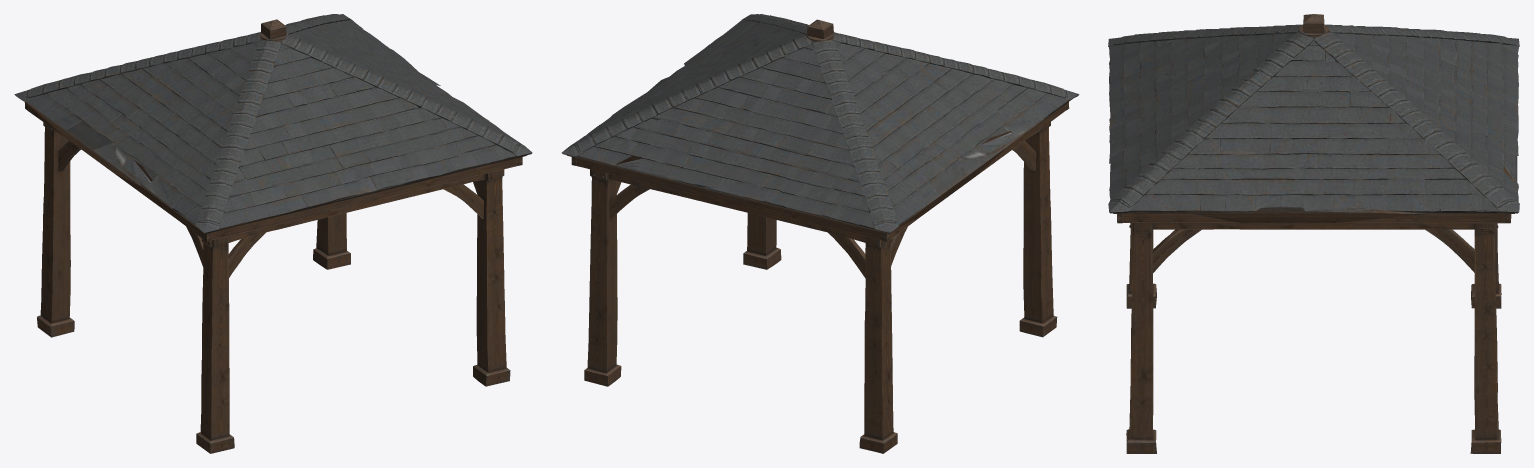
The model's file is gazebo-classic-dark-stained-3x3.glb.
3 views of the same model, side by side, from view 1: azimuth 30°, elevation 25°; view 2: azimuth 150°, elevation 25°; view 3: azimuth 270°, elevation 25° (orthographic). The views are drawn at different scales.
Parts seen in each view (by area): view 1: Mesh_0; view 2: Mesh_0; view 3: Mesh_0.
Part boxes in pixels (box(x1,y1,x2,y2)): Mesh_0: box(14, 14, 532, 453); Mesh_0: box(561, 14, 1079, 453); Mesh_0: box(1108, 14, 1519, 453).
Bounding box in the file's own units: 3 × 2.9 × 3.
1 material, 1 textured.
